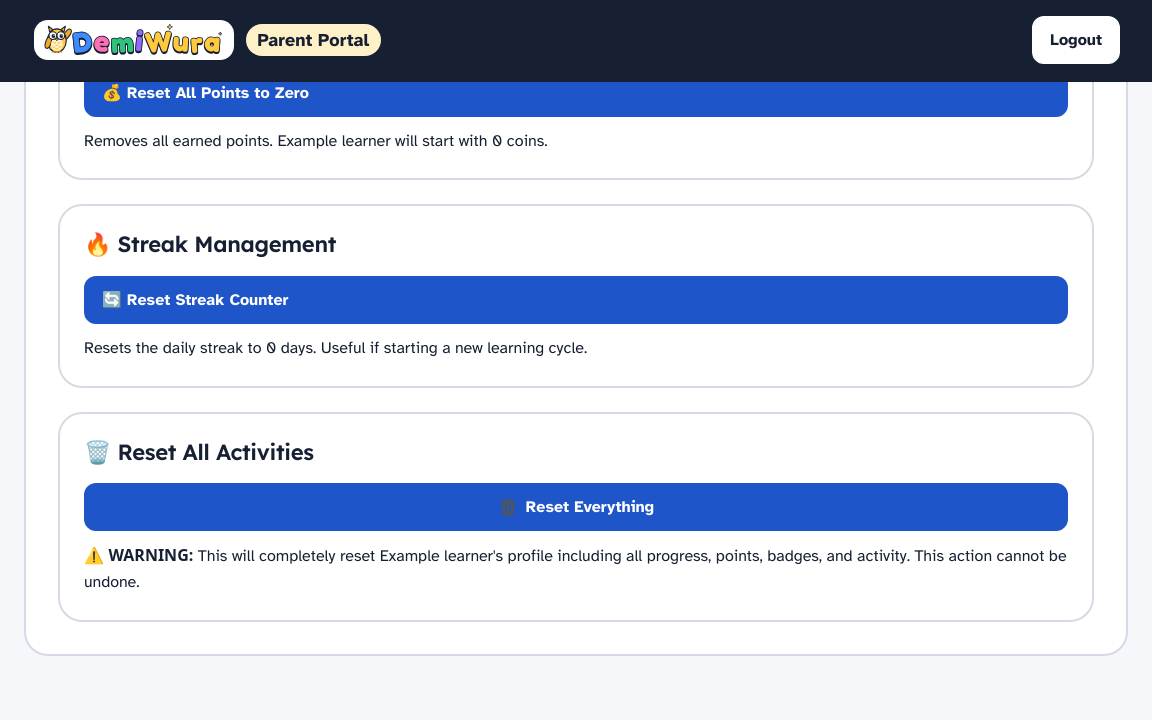
Scenario: Clear Path parent presentation preserves existing actions and data › keeps full reset behind its original confirmation and cancellation
The width and height of the screenshot is (1152, 720).
(page scrolled)
Click the button "Reset Everything" at point(576, 507), box [84,483,1068,531]
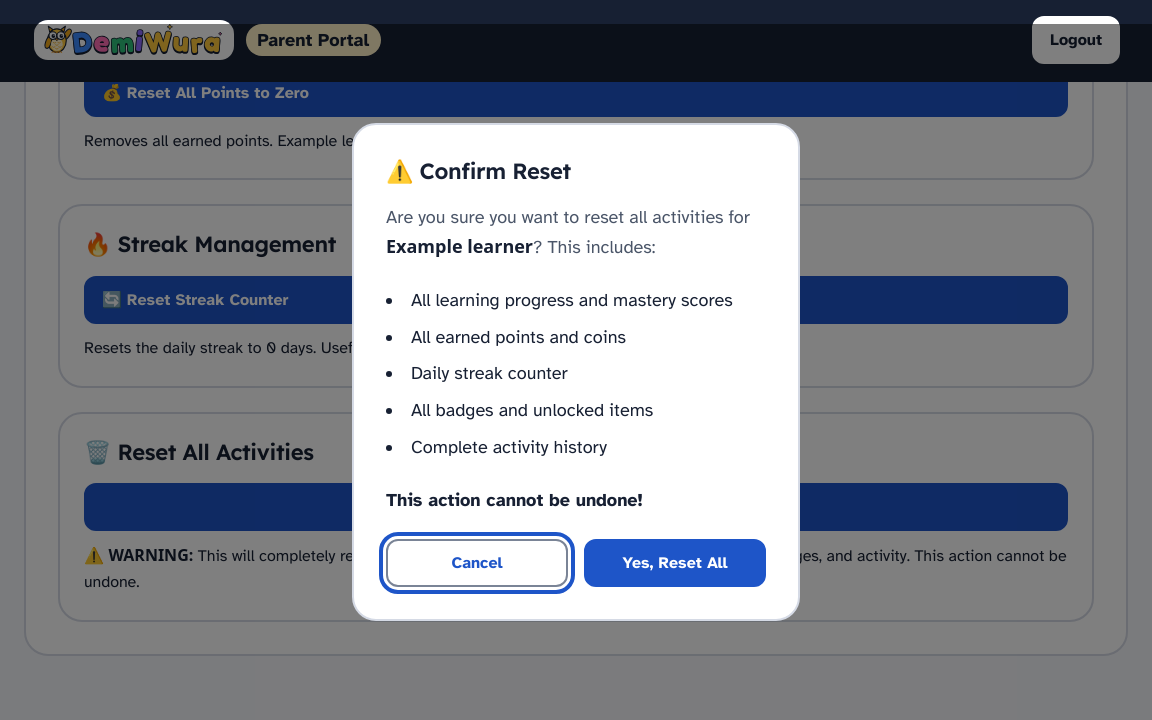
Expected: the dialog "⚠️ Confirm Reset" shows "This action cannot be undone!", [386,489,643,511]
Click the button "Cancel" at point(477, 562), box [386,538,568,586]
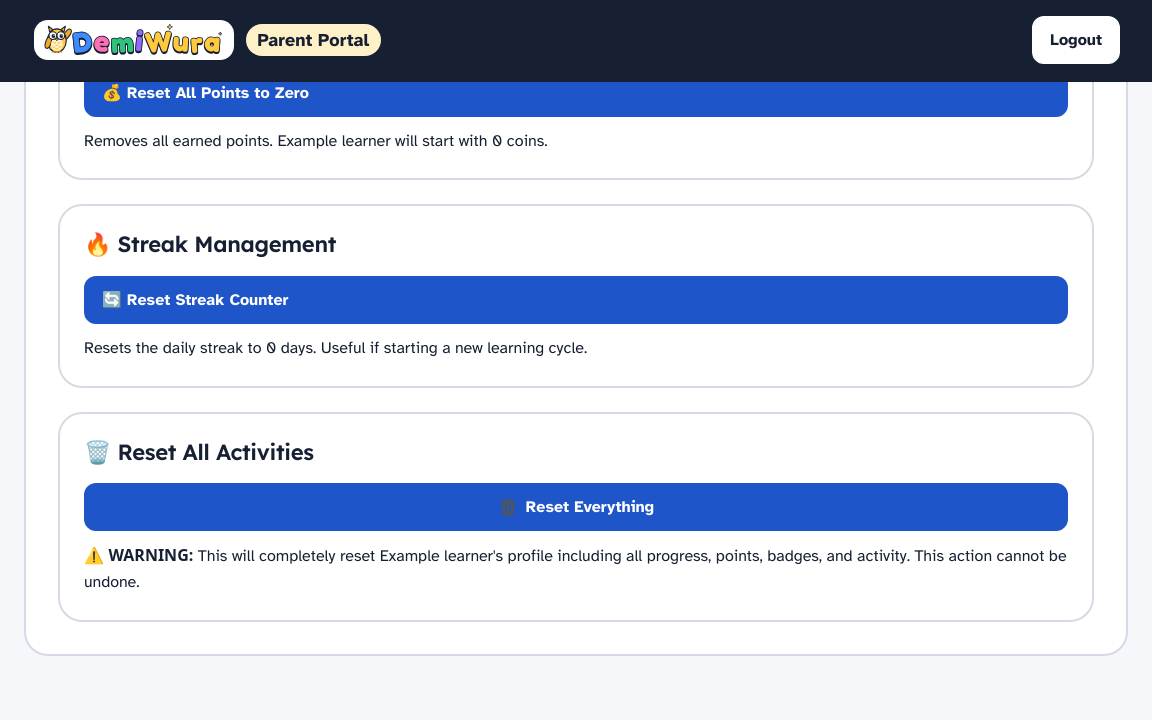
Click the button "Reset Everything" at point(576, 507), box [84,483,1068,531]
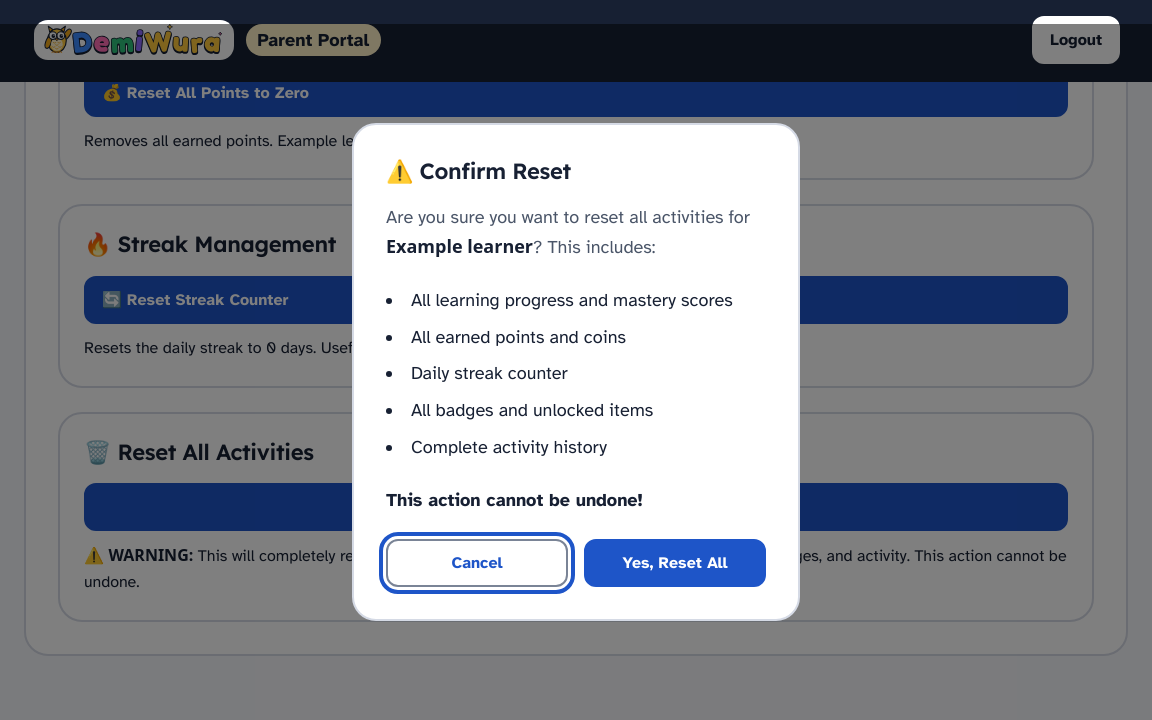
Click the button "Yes, Reset All" at point(675, 562), box [584,538,766,586]
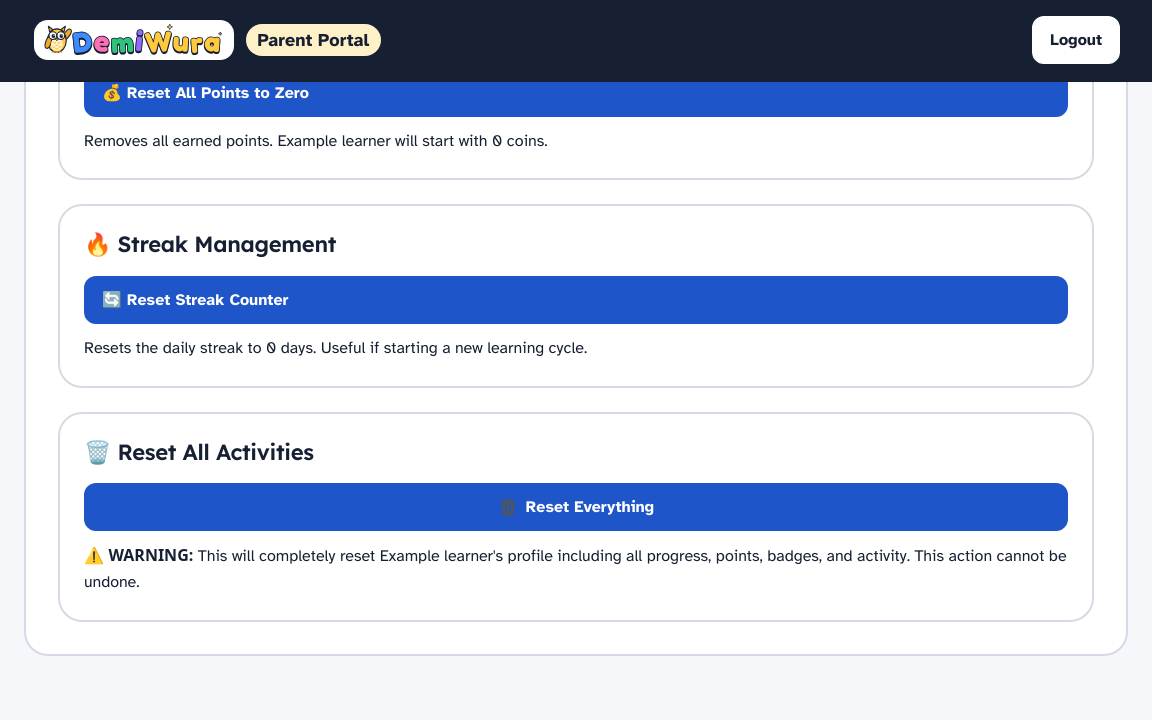
Expected: the dialog is gone
